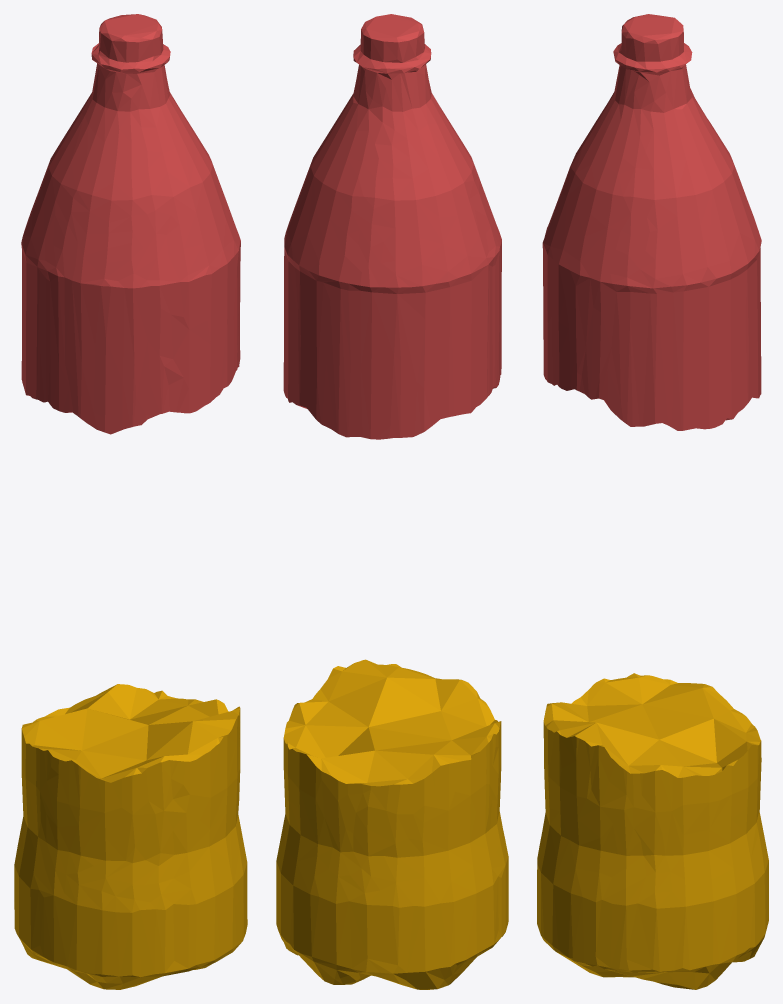
File: fractured_22_2pcs_transformed.glb
The picture shows the model from 3 angles, left to right: view 1: azimuth 30°, elevation 25°; view 2: azimuth 150°, elevation 25°; view 3: azimuth 270°, elevation 25°; orthographic projection.
Parts seen in each view (by area): view 1: piece_1.obj, piece_0.obj; view 2: piece_1.obj, piece_0.obj; view 3: piece_1.obj, piece_0.obj.
Part boxes in pixels (x1=…): piece_1.obj: x1=21, y1=14, x2=240, y2=434; piece_0.obj: x1=14, y1=684, x2=247, y2=989; piece_1.obj: x1=283, y1=14, x2=501, y2=439; piece_0.obj: x1=276, y1=659, x2=508, y2=989; piece_1.obj: x1=542, y1=14, x2=761, y2=430; piece_0.obj: x1=537, y1=673, x2=768, y2=989.
Size of the model in its own units: 0.3641 by 1.6 by 0.3636.
